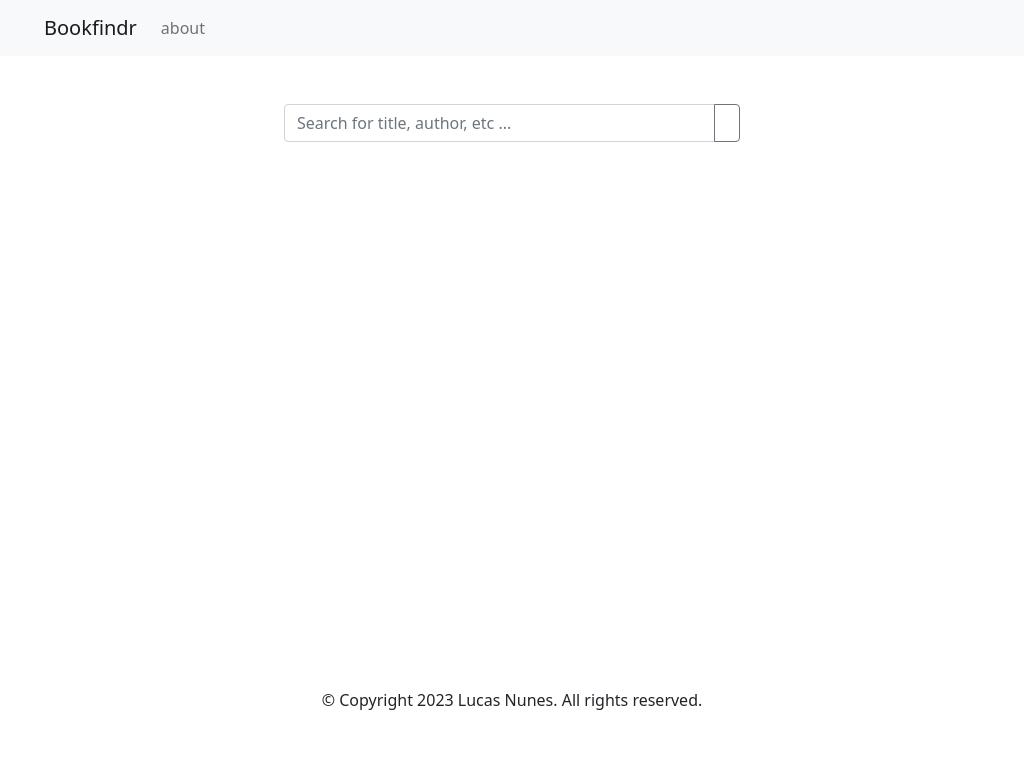
Bookfindr › Bookfindr > Search Box › should return 1 book when title is searched
Type "Livro 1" into the field with test id "searchbox" at [500, 123], box top-left (284, 104), bottom-right (715, 142)
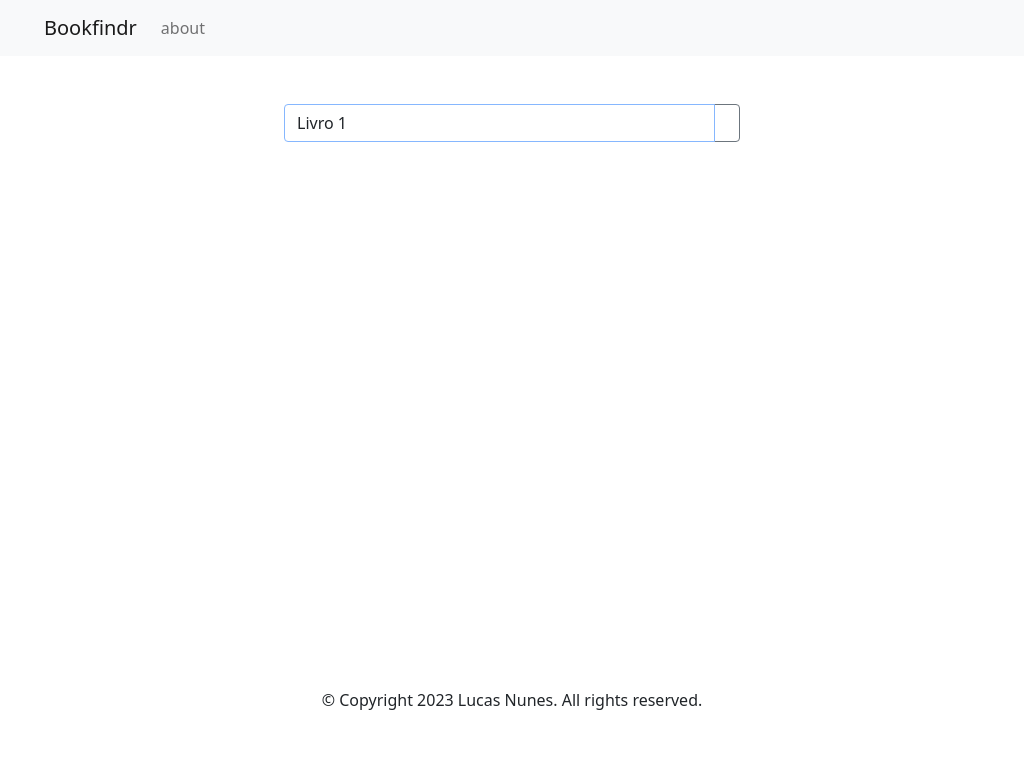
Press Enter in the field with test id "searchbox", box top-left (284, 104), bottom-right (715, 142)
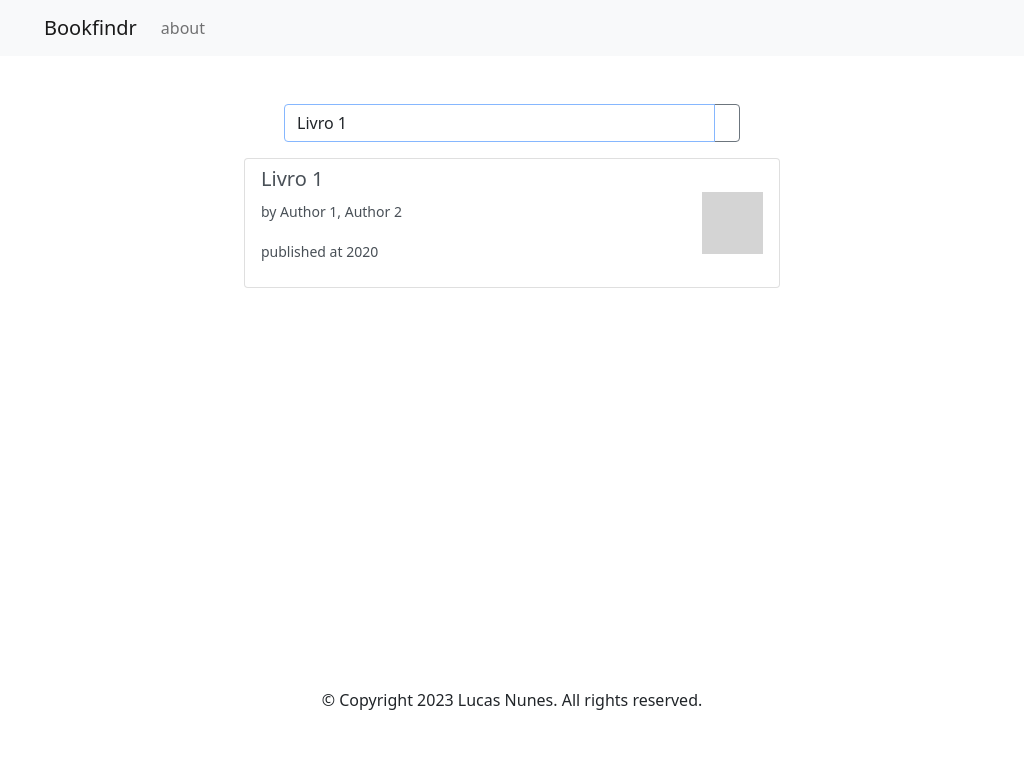
Result: the number of links with test id "bookitem" is 1 at top-left (244, 158), bottom-right (780, 288)
Result: the heading with test id "bookitem" reads "Livro 1" at top-left (261, 165), bottom-right (323, 192)
Result: the text with test id "bookitem" reads "by Author 1, Author 2" at top-left (261, 202), bottom-right (402, 221)
